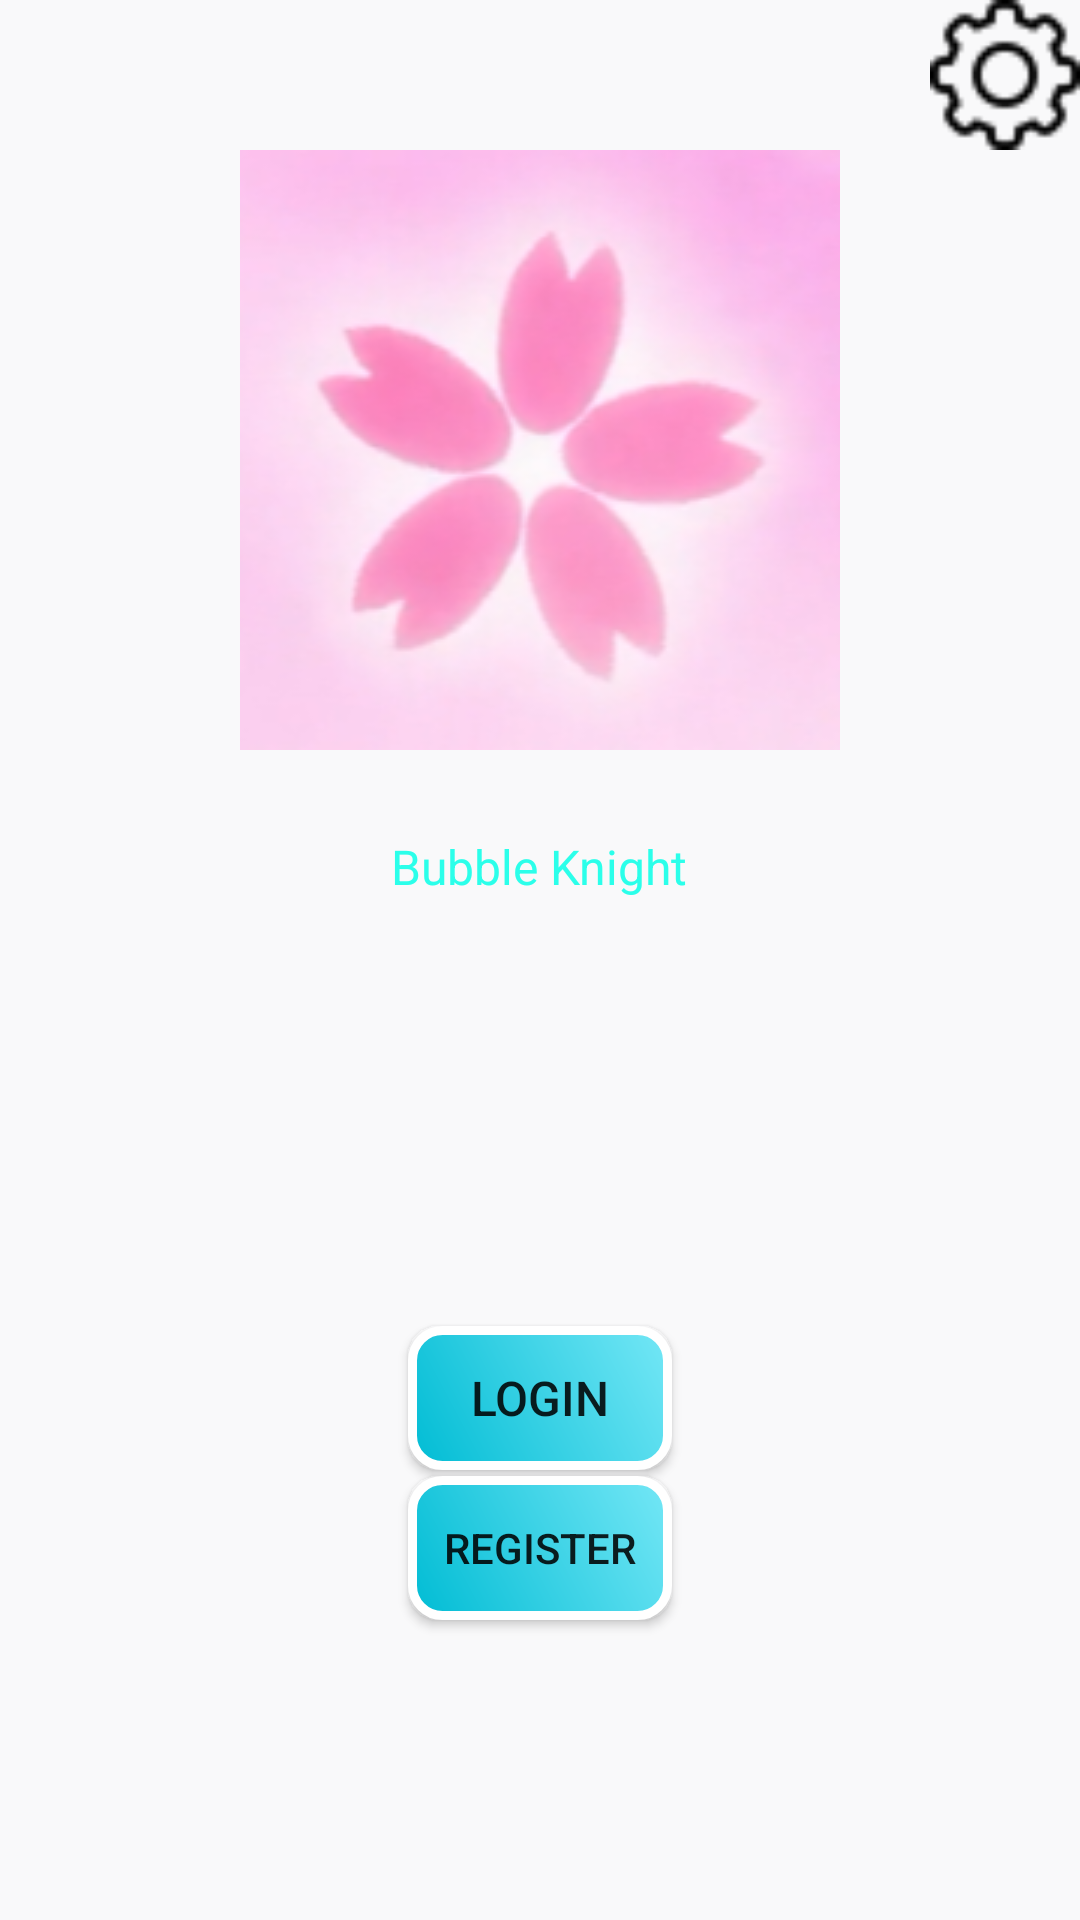

Screen size 1080w x 1920h. Icon name, then its center in pixels as [x,y]:
settings: [1005,75]
